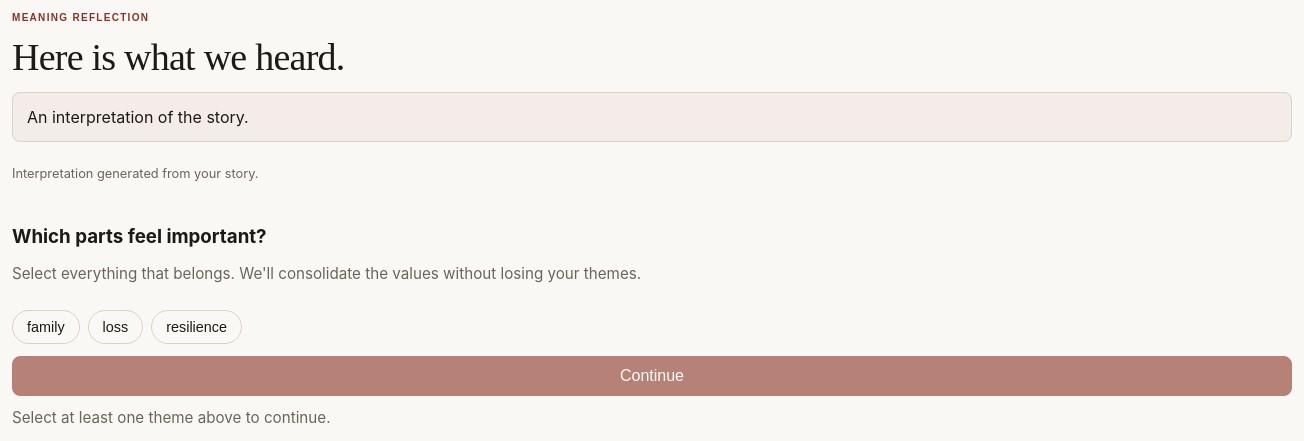
MeaningReflection -- Continue disabled with no stated reason (live-test regression pattern) › the reason disappears and Continue enables once a theme is selected
Click the button "family" at (46, 327), box left=12, top=310, right=80, bottom=344
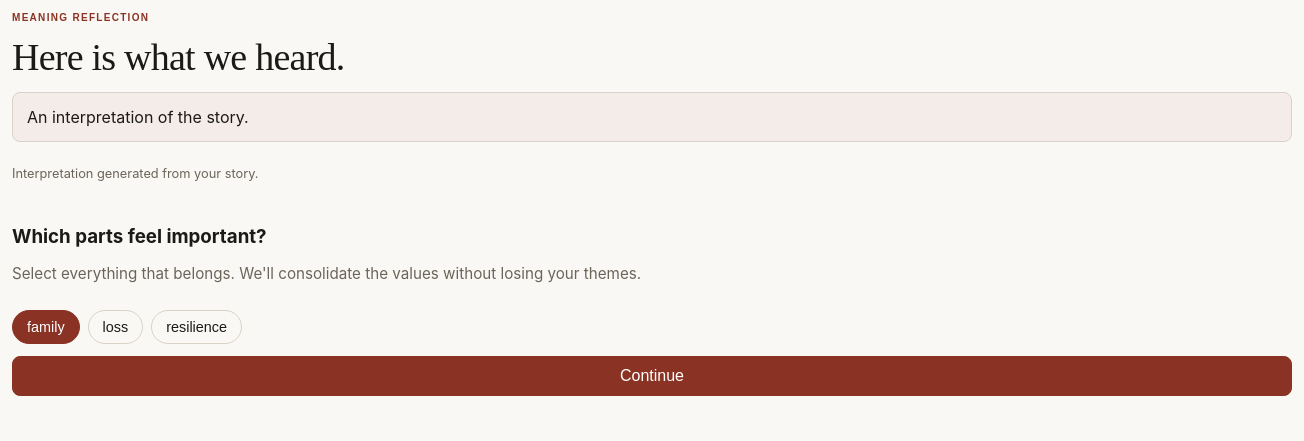
Result: the button "Continue" is enabled at left=12, top=356, right=1292, bottom=396
Result: the text "Select at least one theme above to continue." is gone
